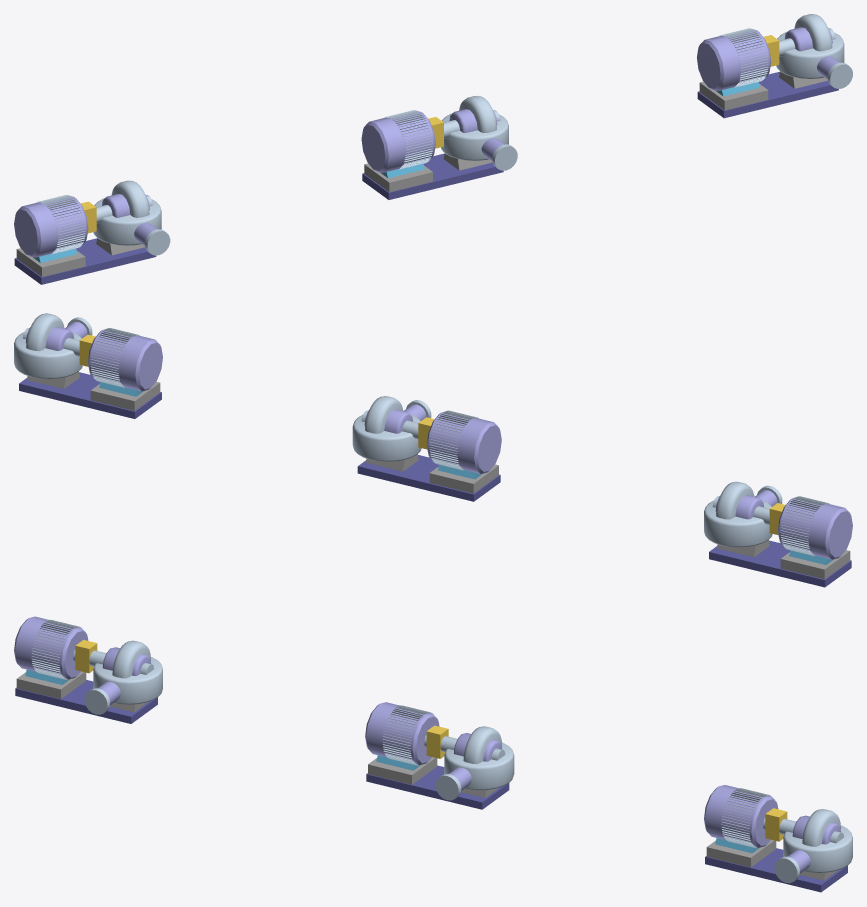
File: cpump.gltf
The picture shows the model from 3 angles, top to bottom: view 1: azimuth 30°, elevation 25°; view 2: azimuth 150°, elevation 25°; view 3: azimuth 330°, elevation 25°; orthographic projection.
Parts seen in each view (by area): view 1: ChamferCyl020, ChamferCyl016, ChamferCyl001, Box604, Box364, Box569, ChamferCyl004, ChamferCyl022, ChamferCyl018, Box605, Box365, Box570 (+6 smaller); view 2: ChamferCyl020, ChamferCyl001, ChamferCyl016, Box569, Box604, Box364, ChamferCyl018, ChamferCyl022, ChamferCyl004, Box605, Box365, Box570 (+3 smaller); view 3: ChamferCyl016, ChamferCyl001, ChamferCyl020, ChamferCyl018, ChamferCyl004, ChamferCyl022, Box569, Box604, Box364, Box365, Box605, Box570 (+9 smaller).
Part boxes in pixels (left/top/right/bottom): ChamferCyl020: left=14, top=196, right=88, bottom=257; ChamferCyl016: left=361, top=111, right=435, bottom=172; ChamferCyl001: left=697, top=29, right=771, bottom=91; Box604: left=14, top=238, right=156, bottom=284; Box364: left=697, top=71, right=838, bottom=118; Box569: left=362, top=153, right=503, bottom=199; ChamferCyl004: left=776, top=31, right=844, bottom=78; ChamferCyl022: left=93, top=198, right=161, bottom=245; ChamferCyl018: left=441, top=113, right=508, bottom=160; Box605: left=16, top=248, right=85, bottom=276; Box365: left=699, top=81, right=768, bottom=110; Box570: left=364, top=163, right=432, bottom=192; ChamferCyl020: left=777, top=497, right=852, bottom=559; ChamferCyl001: left=88, top=329, right=162, bottom=391; ChamferCyl016: left=426, top=412, right=501, bottom=473; Box569: left=357, top=455, right=500, bottom=501; Box604: left=709, top=540, right=851, bottom=587; Box364: left=19, top=372, right=161, bottom=418; ChamferCyl018: left=352, top=414, right=421, bottom=461; ChamferCyl022: left=704, top=499, right=772, bottom=547; ChamferCyl004: left=14, top=331, right=82, bottom=378; Box605: left=780, top=550, right=850, bottom=579; Box365: left=90, top=381, right=160, bottom=410; Box570: left=429, top=464, right=498, bottom=493; ChamferCyl016: left=365, top=702, right=439, bottom=765; ChamferCyl001: left=704, top=785, right=778, bottom=847; ChamferCyl020: left=14, top=616, right=88, bottom=679; ChamferCyl018: left=444, top=742, right=514, bottom=790; ChamferCyl004: left=783, top=825, right=852, bottom=872; ChamferCyl022: left=93, top=657, right=162, bottom=704; Box569: left=366, top=765, right=509, bottom=809; Box604: left=15, top=680, right=157, bottom=723; Box364: left=705, top=848, right=847, bottom=892; Box365: left=706, top=839, right=776, bottom=867; Box605: left=16, top=671, right=86, bottom=698; Box570: left=368, top=757, right=437, bottom=784.
Bounding box in the file's own units: 69.64 × 5.56 × 7.28.
Materials: 6 (6 with a texture image).
